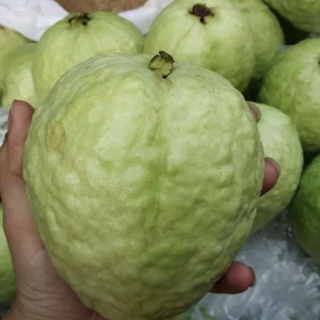oi: (21, 54, 260, 320)
